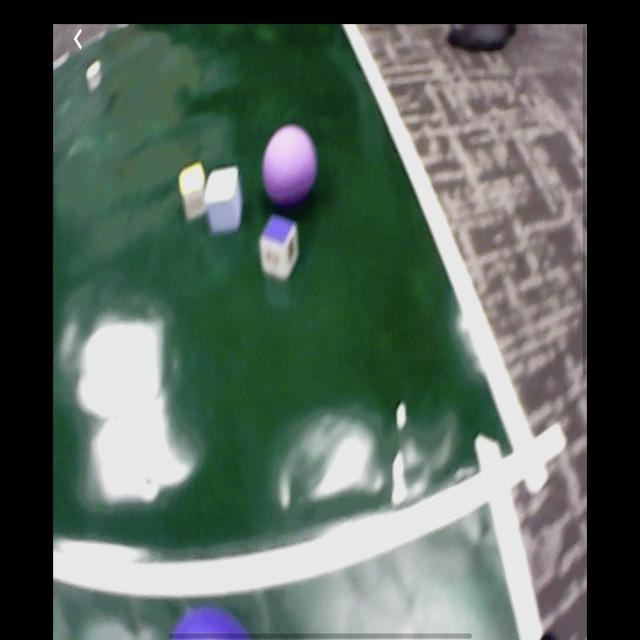ball: (263, 123, 320, 207), (175, 602, 248, 640)
